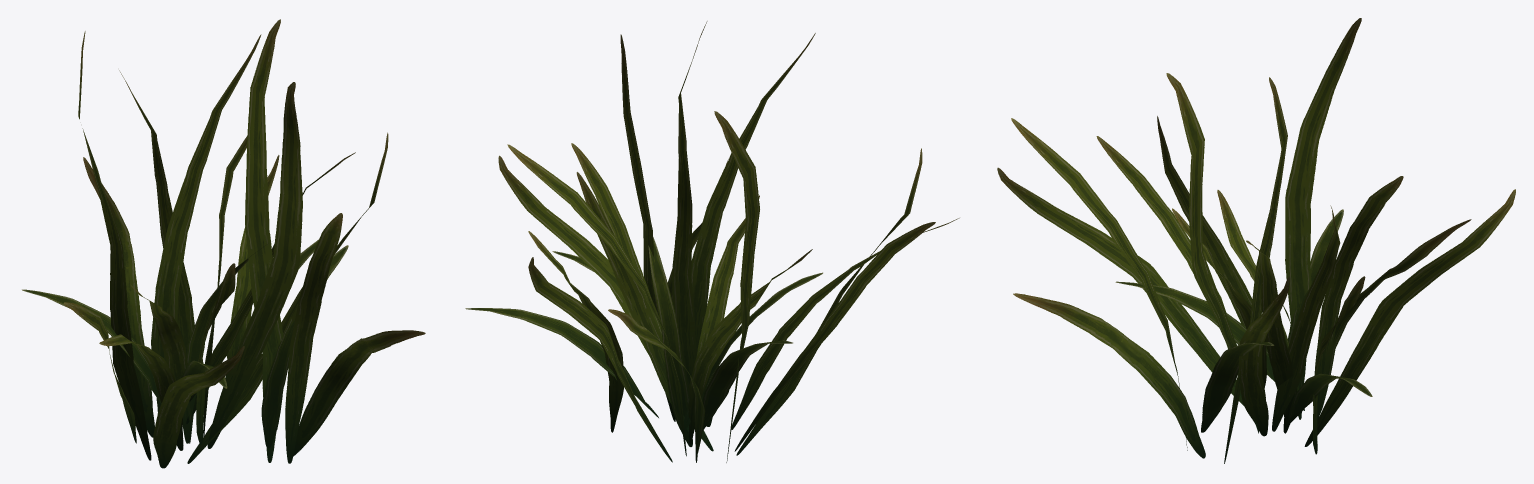
File: Grass_Large_5.fbx
3 views of the same model, side by side, from view 1: azimuth 30°, elevation 25°; view 2: azimuth 150°, elevation 25°; view 3: azimuth 270°, elevation 25° (orthographic). The views are drawn at different scales.
Visible parts, largest first — view 1: Grass_Large_5; view 2: Grass_Large_5; view 3: Grass_Large_5.
Boxes of the visible parts, box(x1,y1,x2,y2) form: Grass_Large_5: box(22, 19, 425, 468); Grass_Large_5: box(465, 21, 959, 462); Grass_Large_5: box(997, 18, 1515, 463).
Size of the model in its own units: 2.21 by 2.26 by 2.6.
